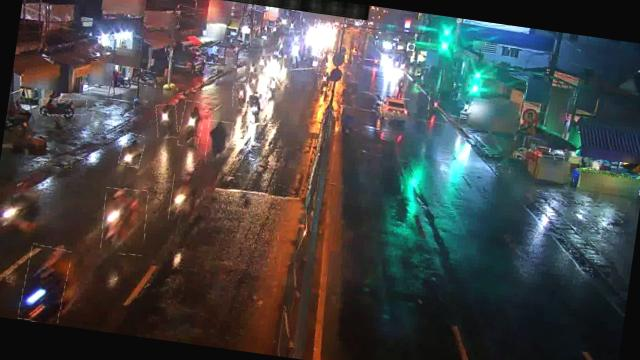Bike: (18, 243, 72, 324), (98, 186, 150, 256), (168, 173, 198, 223), (203, 120, 233, 166), (178, 99, 205, 148), (38, 94, 88, 119), (152, 103, 179, 140), (118, 132, 144, 168), (247, 92, 270, 124), (128, 68, 158, 88), (230, 82, 248, 110), (426, 92, 439, 118), (246, 72, 260, 91), (266, 74, 276, 98)
Car: (378, 96, 408, 126)
